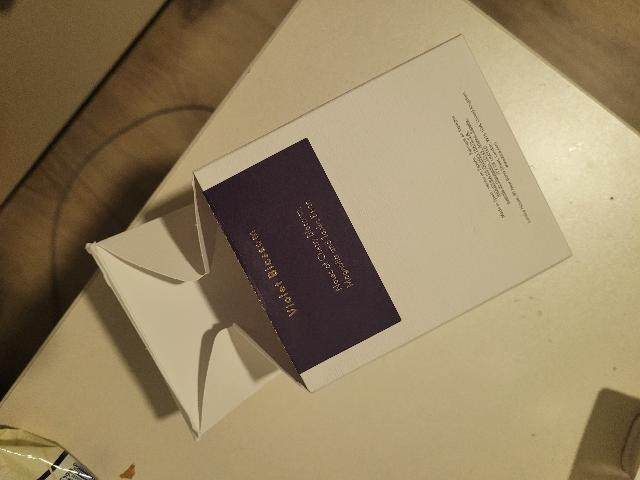Kagit: (78, 27, 573, 442)
